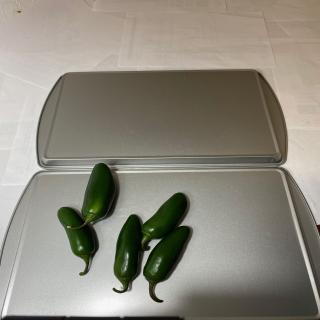Chilli: (57, 162, 116, 276)
Tomato: (143, 225, 190, 302), (67, 163, 116, 230), (140, 192, 188, 251), (56, 206, 95, 276), (113, 214, 142, 293)
